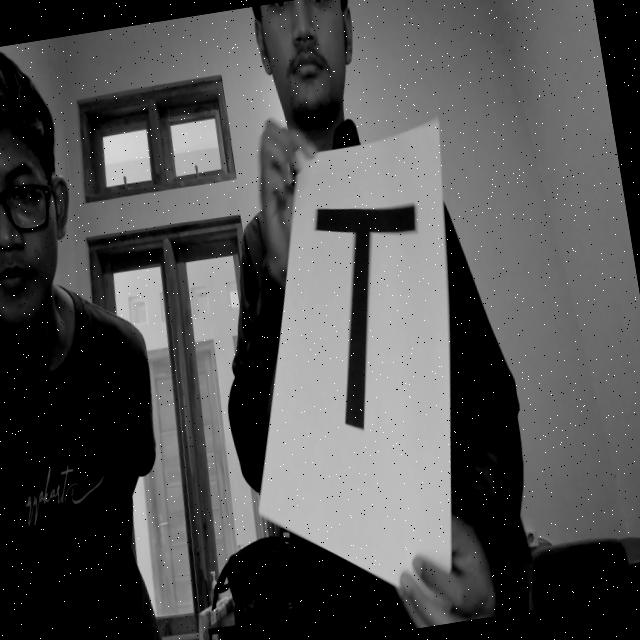t: (294, 178, 452, 456)
